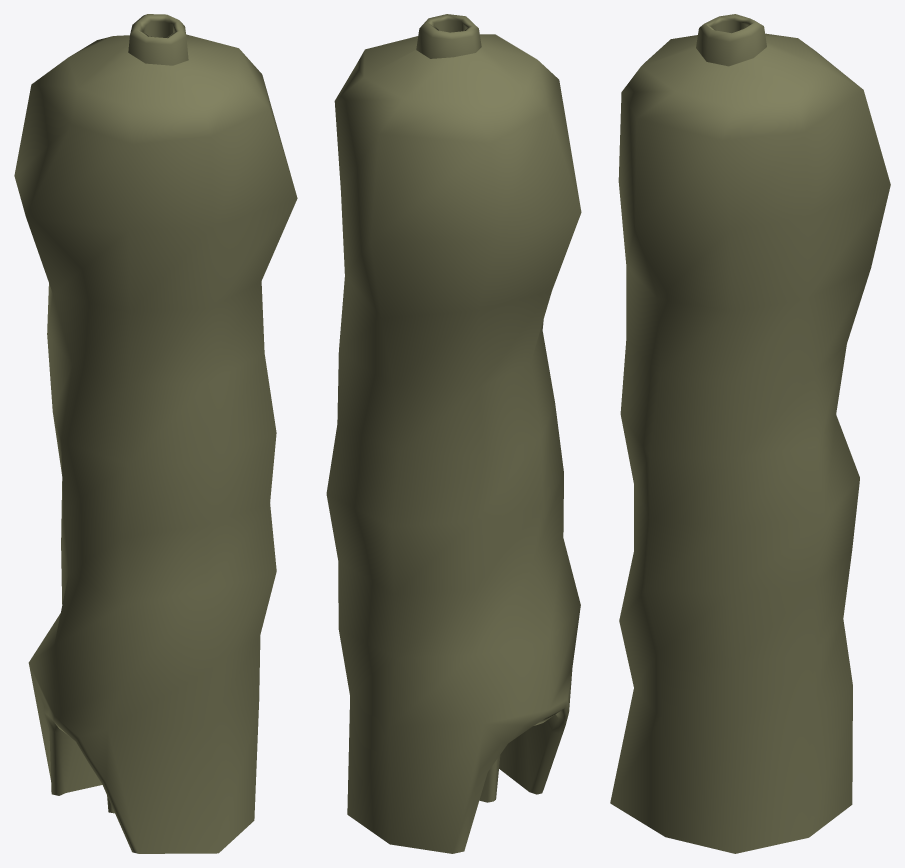
Rendered from HollowTower_mesh.fbx.
3 renders of one model, left to right at view 1: azimuth 30°, elevation 25°; view 2: azimuth 150°, elevation 25°; view 3: azimuth 270°, elevation 25°, orthographic.
Parts seen in each view (by area): view 1: HollowTower; view 2: HollowTower; view 3: HollowTower.
Part boxes in pixels (x1,y1,x2,y2): HollowTower: (14,14,297,853); HollowTower: (326,14,581,853); HollowTower: (610,14,890,853).
Size of the model in its own units: 5.03 by 16.25 by 5.25.
